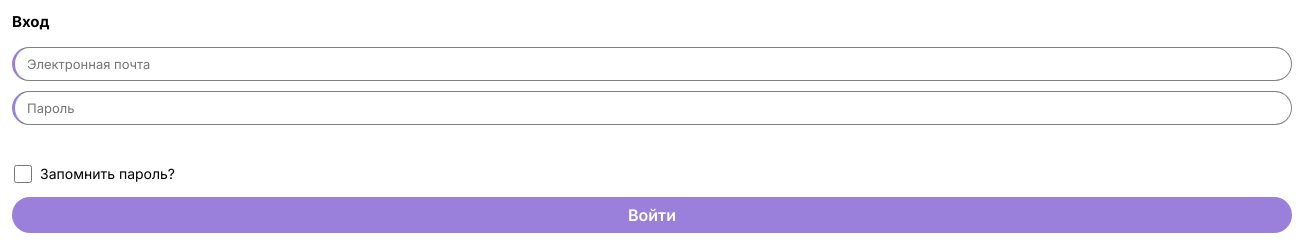
Test case: AuthForm › проверка полей › при уходе с поля помечает неверный email ошибкой и включает тряску
Type "not-an-email" into the field labelled "Электронная почта". click: (652, 64)
box: x1=12 y1=46 x2=1292 y2=80
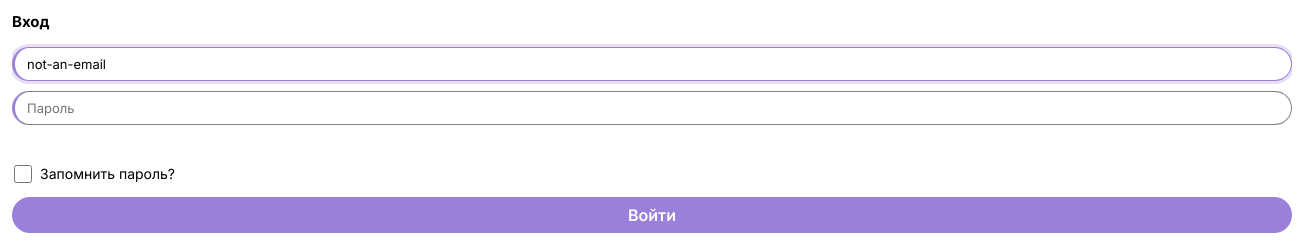
Press Tab
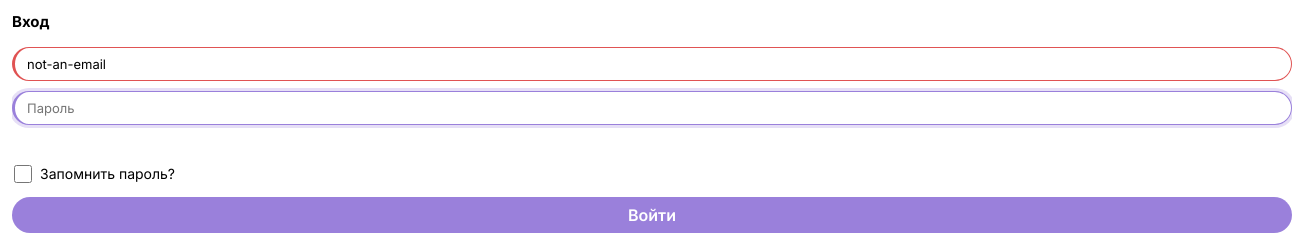
Expected: the field named "Электронная почта" is marked as invalid, x1=12 y1=46 x2=1292 y2=80
